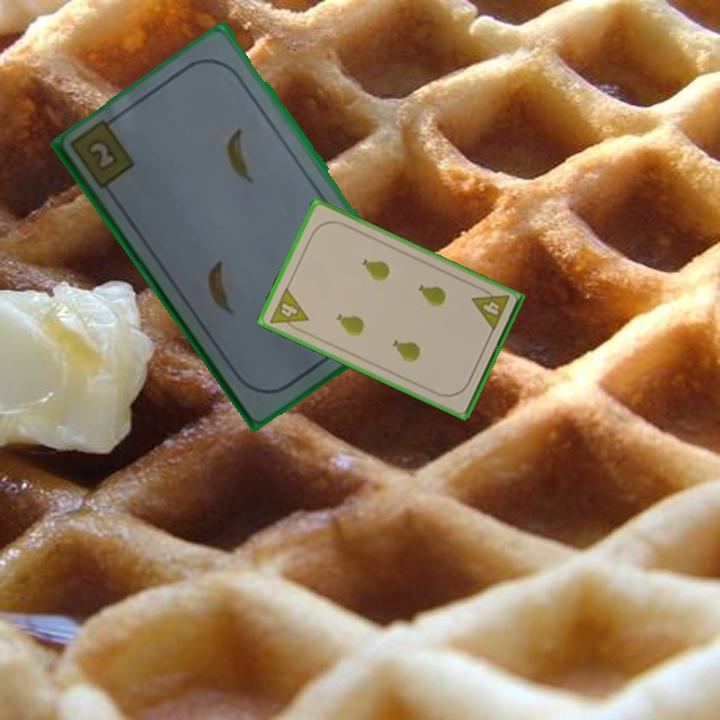2b: (86, 138, 122, 175)
4p: (266, 284, 311, 336), (468, 283, 512, 334)
